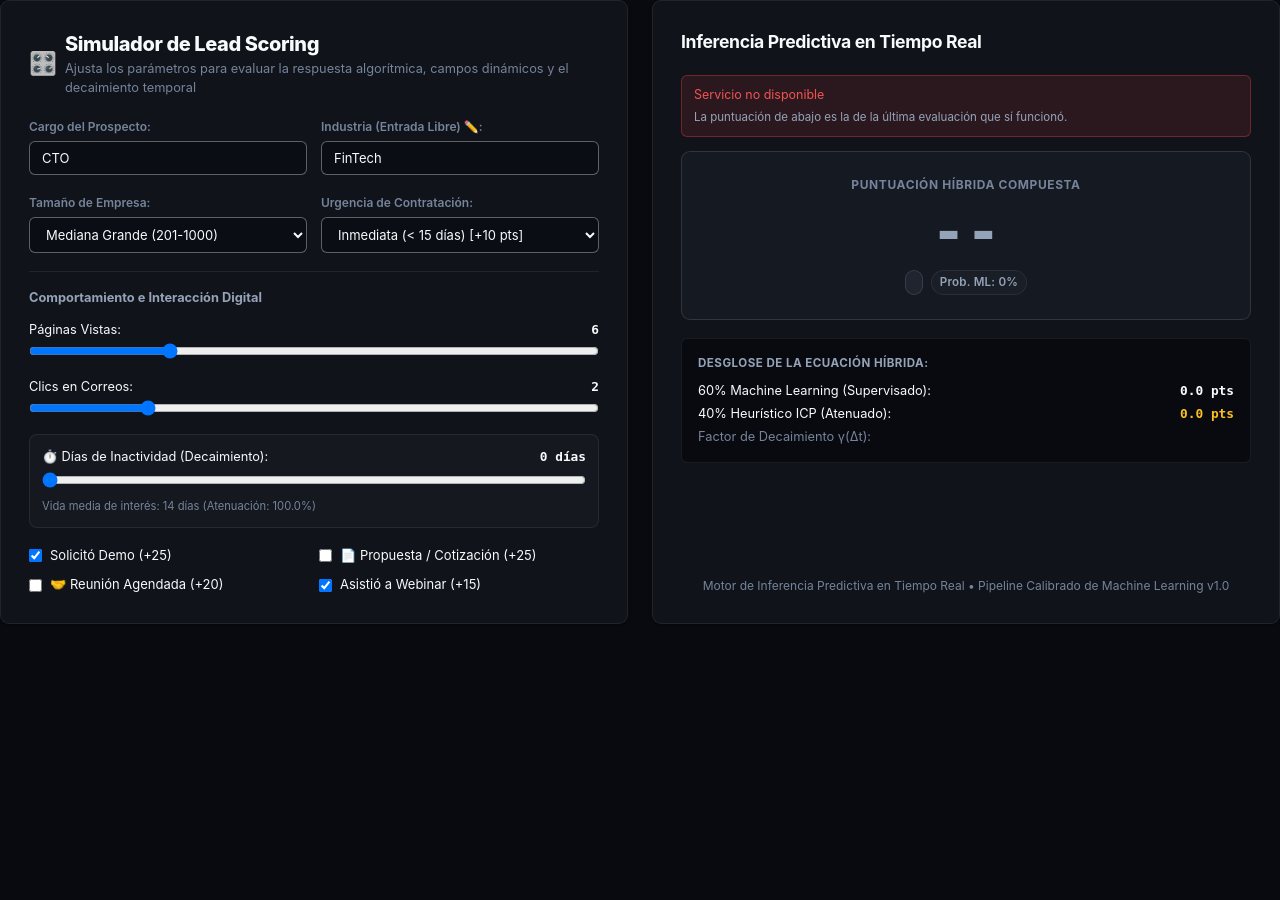
Test: cuando la inferencia falla › el aviso de error desaparece en cuanto una evaluación vuelve a funcionar
Expected: the text "Servicio no disponible" is shown, [694,87,824,102]
Set the slider labelled "Páginas Vistas:" to "9". click: (236, 351)
box: [29,343,599,359]
Wait 250 ms
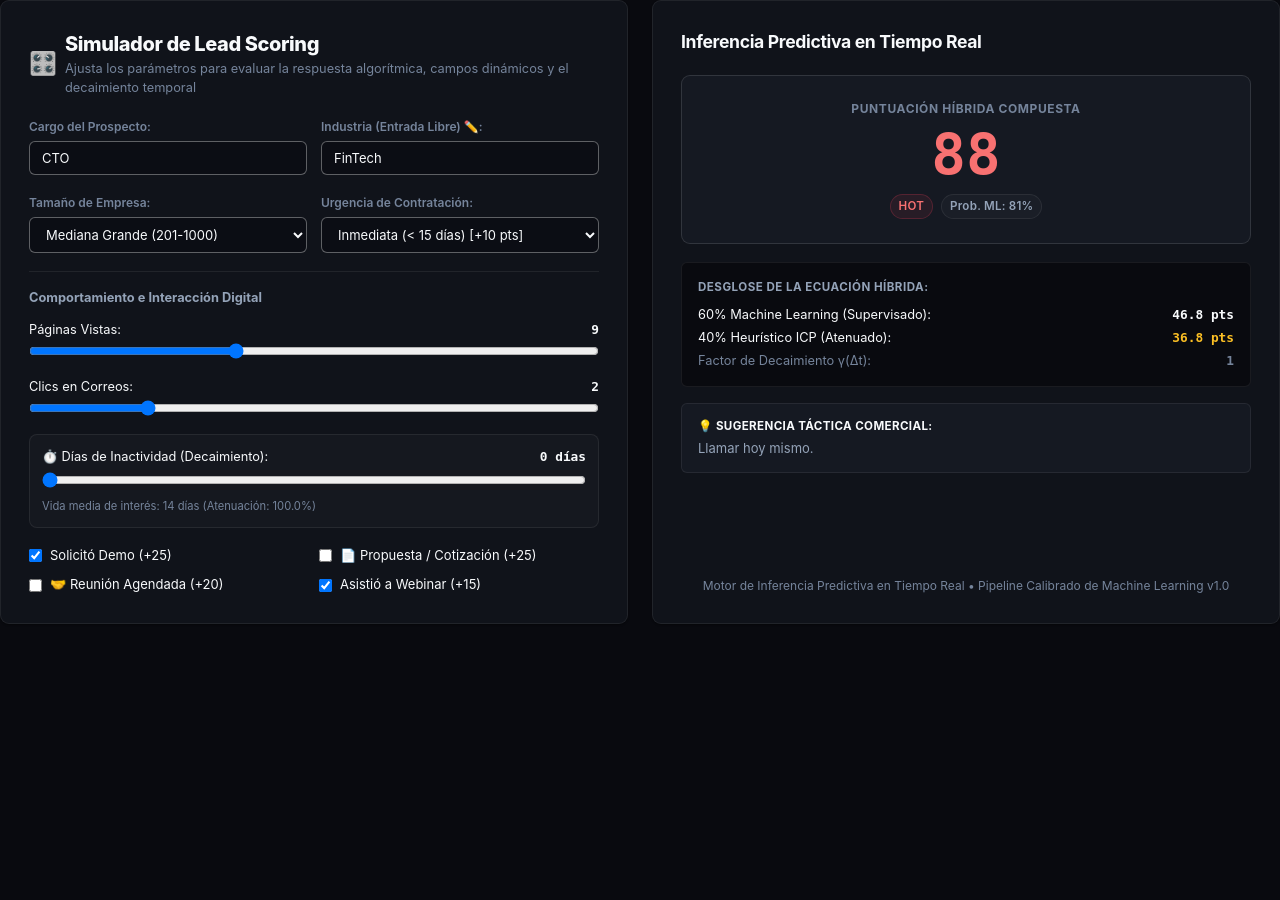
Expected: the text "88" is shown, [931,122,1001,189]
Expected: the text "Servicio no disponible" is gone
